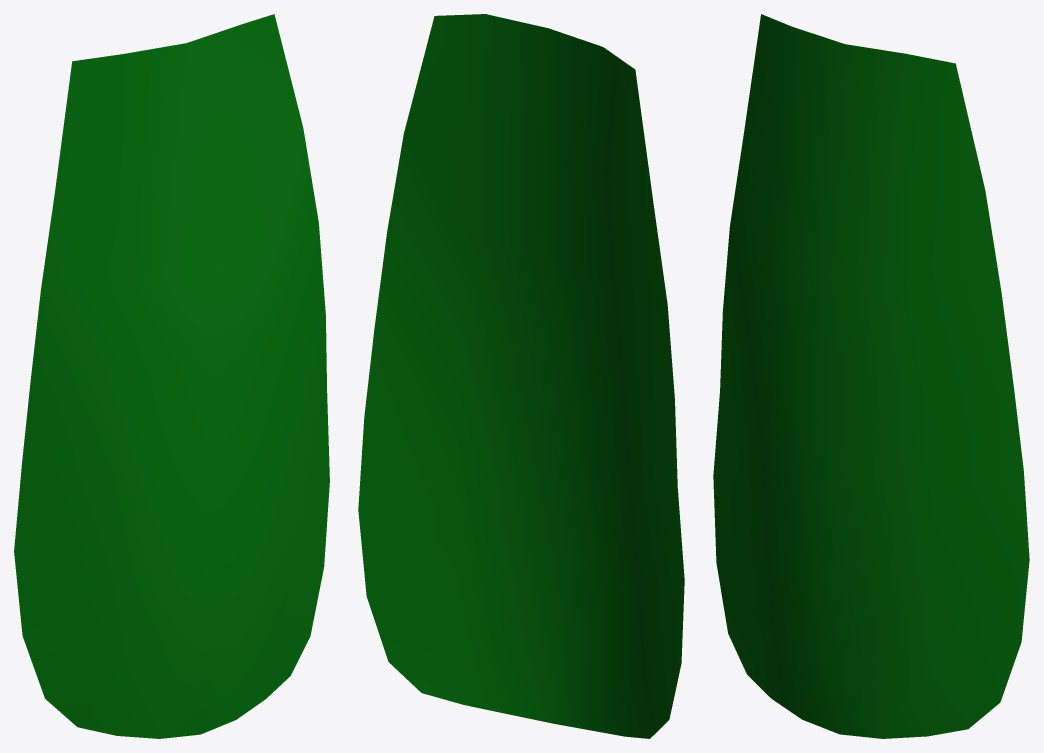
The model's file is MD_nail_square_HandR.Thumb.fbx.
The picture shows the model from 3 angles, left to right: view 1: azimuth 30°, elevation 25°; view 2: azimuth 150°, elevation 25°; view 3: azimuth 330°, elevation 25°; orthographic projection. The views are drawn at different scales.
Visible parts, largest first — view 1: MD_nail_square_HandR.Thumb; view 2: MD_nail_square_HandR.Thumb; view 3: MD_nail_square_HandR.Thumb.
Boxes of the visible parts, x1=… form: MD_nail_square_HandR.Thumb: x1=14, y1=14, x2=329, y2=738; MD_nail_square_HandR.Thumb: x1=358, y1=14, x2=684, y2=738; MD_nail_square_HandR.Thumb: x1=713, y1=14, x2=1029, y2=738.
Bounding box in the file's own units: 0.9338 × 1.94 × 0.1994.
